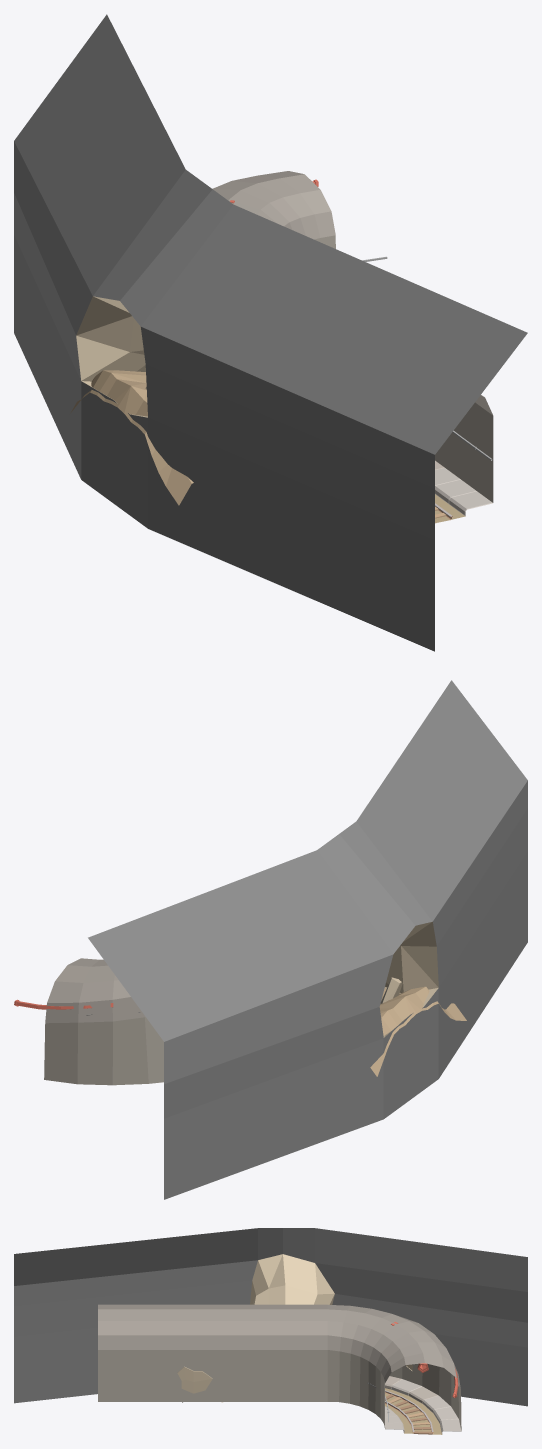
Rendered from Tunnel.fbx.
3 views of the same model, one above another, from view 1: azimuth 30°, elevation 25°; view 2: azimuth 150°, elevation 25°; view 3: azimuth 270°, elevation 25° (orthographic). The views are drawn at different scales.
Visible parts, largest first — view 1: Tunnel.001, Tunnel, Dirt, Floor; view 2: Tunnel.001, Tunnel, Dirt; view 3: Tunnel.001, Tunnel, Floor, Rails.
Boxes of the visible parts, box(x1,y1,x2,y2) form: Tunnel.001: box(14, 14, 527, 651); Tunnel: box(76, 171, 493, 502); Dirt: box(70, 370, 193, 505); Floor: box(435, 460, 492, 523); Tunnel.001: box(88, 680, 527, 1199); Tunnel: box(44, 921, 438, 1085); Dirt: box(370, 986, 466, 1076); Tunnel.001: box(14, 1228, 527, 1406); Tunnel: box(98, 1254, 461, 1430); Floor: box(385, 1376, 461, 1434); Rails: box(385, 1390, 433, 1434).
Size of the model in its own units: 1284 by 1017 by 2686.
